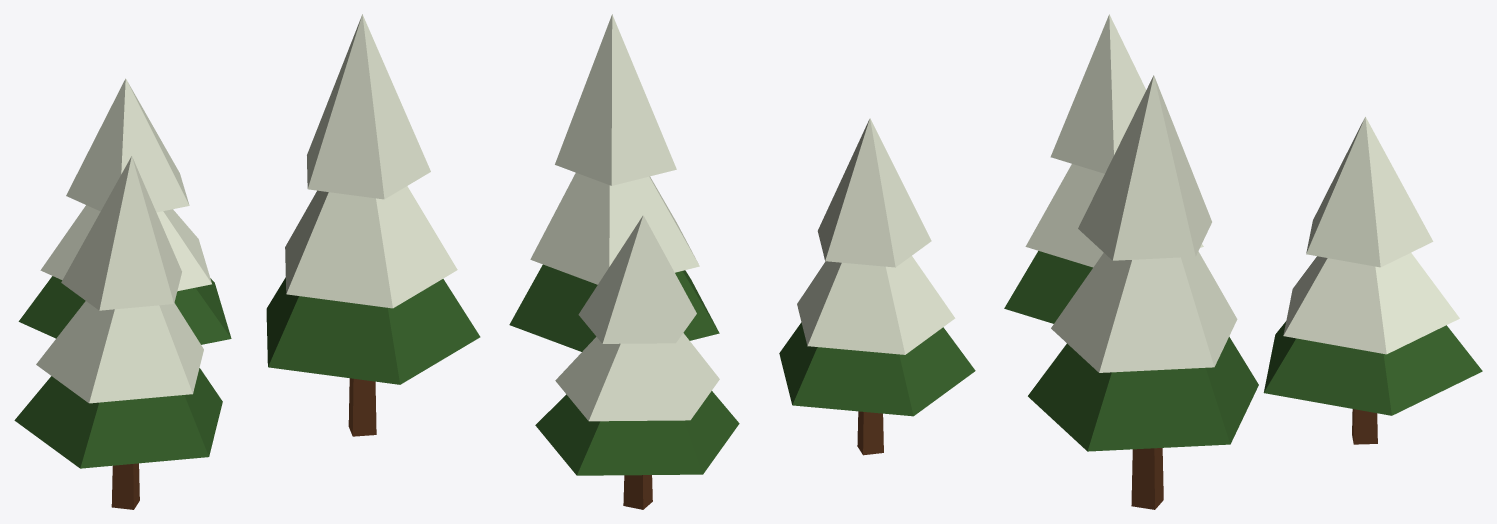
Rendered from SnowPineGrove.fbx.
3 views of the same model, side by side, from view 1: azimuth 30°, elevation 25°; view 2: azimuth 150°, elevation 25°; view 3: azimuth 270°, elevation 25° (orthographic). The views are drawn at different scales.
Visible parts, largest first — view 1: SnowPineGrove; view 2: SnowPineGrove; view 3: SnowPineGrove.
Part boxes in pixels (box(x1,y1,x2,y2)): SnowPineGrove: box(14, 14, 480, 509); SnowPineGrove: box(509, 14, 975, 509); SnowPineGrove: box(1004, 14, 1482, 509).
Size of the model in its own units: 76.5 by 72 by 72.72.
